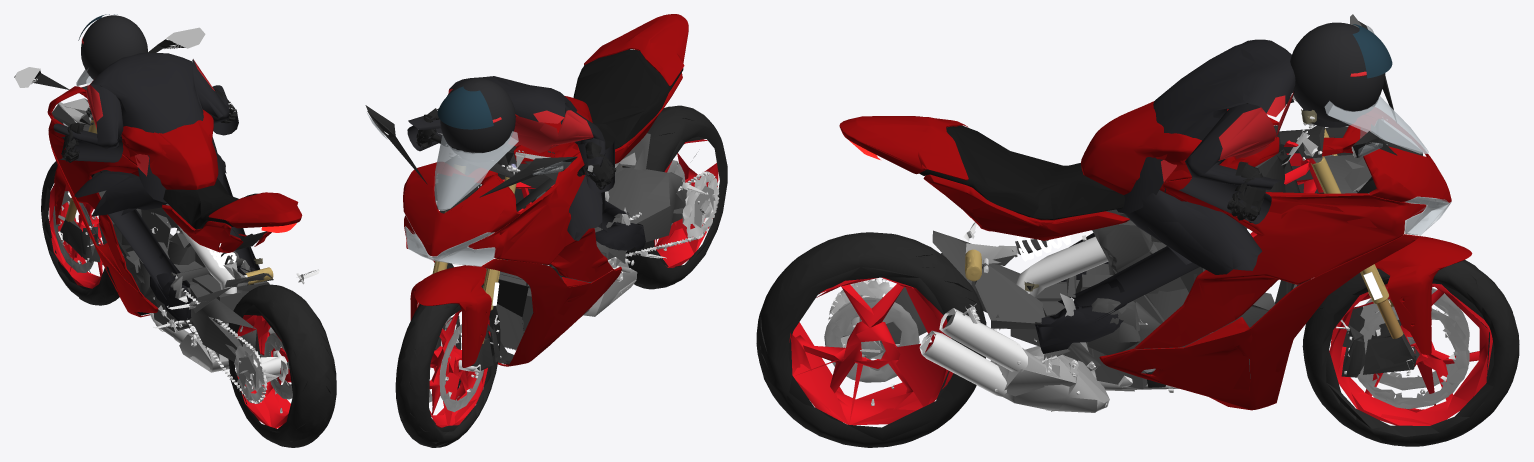
File: moto.glb
3 views of the same model, side by side, from view 1: azimuth 30°, elevation 25°; view 2: azimuth 150°, elevation 25°; view 3: azimuth 270°, elevation 25° (orthographic). The views are drawn at different scales.
Parts seen in each view (by area): view 1: rider_leather (×4), sb_carpaint_body_front_001_carpaint_red_0, sb_carpaint_body_front_003_tire_sw_0, sb_carpaint_body_front_007_metal_black_0, sb_carpaint_body_front_004_chrome_0 (×2), sb_carpaint_body_front_002_paintRed_0, rider_helmet_shell, far_leather (×4), far_carpaint_body_front_001_carpaint_red_0, sb_carpaint_body_front_013_leather_black_0, sb_carpaint_body_front_009_metal_rough_plus_0, sb_carpaint_body_front_006_brakes_0 (+15 smaller); view 2: sb_carpaint_body_front_001_carpaint_red_0, sb_carpaint_body_front_003_tire_sw_0, sb_carpaint_body_front_007_metal_black_0, sb_carpaint_body_front_026_glass_clear_0, far_carpaint_body_front_001_carpaint_red_0, rider_leather (×2), far_carpaint_body_front_026_glass_clear_0, sb_carpaint_body_front_005_plastic_rough_grey_0, far_carpaint_body_front_013_leather_black_0, sb_carpaint_body_front_002_paintRed_0, rider_helmet_shell, sb_carpaint_body_front_013_leather_black_0 (+16 smaller); view 3: sb_carpaint_body_front_001_carpaint_red_0, sb_carpaint_body_front_003_tire_sw_0, rider_leather (×4), sb_carpaint_body_front_007_metal_black_0, sb_carpaint_body_front_002_paintRed_0, far_carpaint_body_front_001_carpaint_red_0, rider_helmet_shell, far_carpaint_body_front_003_tire_sw_0, far_carpaint_body_front_002_paintRed_0, far_leather (×4), sb_carpaint_body_front_013_leather_black_0, sb_carpaint_body_front_006_brakes_0 (+19 smaller).
Boxes of the visible parts, x1,y1,x2,y2 form: rider_leather (×4): (53, 53, 254, 289); sb_carpaint_body_front_001_carpaint_red_0: (47, 86, 302, 317); sb_carpaint_body_front_003_tire_sw_0: (41, 161, 336, 447); sb_carpaint_body_front_007_metal_black_0: (98, 190, 273, 361); sb_carpaint_body_front_004_chrome_0 (×2): (58, 201, 319, 403); sb_carpaint_body_front_002_paintRed_0: (49, 185, 291, 427); rider_helmet_shell: (81, 15, 147, 79); far_leather (×4): (57, 63, 229, 278); far_carpaint_body_front_001_carpaint_red_0: (49, 85, 301, 316); sb_carpaint_body_front_013_leather_black_0: (163, 178, 257, 229); sb_carpaint_body_front_009_metal_rough_plus_0: (57, 98, 255, 389); sb_carpaint_body_front_006_brakes_0: (53, 191, 292, 399); sb_carpaint_body_front_001_carpaint_red_0: (403, 14, 688, 367); sb_carpaint_body_front_003_tire_sw_0: (395, 105, 727, 447); sb_carpaint_body_front_007_metal_black_0: (463, 133, 687, 350); sb_carpaint_body_front_026_glass_clear_0: (367, 113, 571, 266); far_carpaint_body_front_001_carpaint_red_0: (404, 15, 684, 364); rider_leather (×2): (408, 76, 605, 240); far_carpaint_body_front_026_glass_clear_0: (368, 115, 517, 266); sb_carpaint_body_front_005_plastic_rough_grey_0: (365, 105, 577, 364); far_carpaint_body_front_013_leather_black_0: (575, 54, 661, 146); sb_carpaint_body_front_002_paintRed_0: (429, 139, 718, 427); rider_helmet_shell: (440, 78, 515, 154); sb_carpaint_body_front_013_leather_black_0: (573, 49, 683, 149); sb_carpaint_body_front_001_carpaint_red_0: (839, 101, 1472, 410); sb_carpaint_body_front_003_tire_sw_0: (756, 232, 1519, 447); rider_leather (×4): (1072, 39, 1295, 318); sb_carpaint_body_front_007_metal_black_0: (880, 157, 1419, 389); sb_carpaint_body_front_002_paintRed_0: (789, 153, 1492, 425); far_carpaint_body_front_001_carpaint_red_0: (859, 101, 1451, 395); rider_helmet_shell: (1290, 22, 1385, 122); far_carpaint_body_front_003_tire_sw_0: (760, 233, 1514, 441); far_carpaint_body_front_002_paintRed_0: (792, 285, 1479, 424); far_leather (×4): (1073, 41, 1293, 313); sb_carpaint_body_front_013_leather_black_0: (919, 125, 1124, 219); sb_carpaint_body_front_006_brakes_0: (824, 288, 1469, 408).
Size of the model in its own units: 0.8459 by 1.28 by 2.11.
